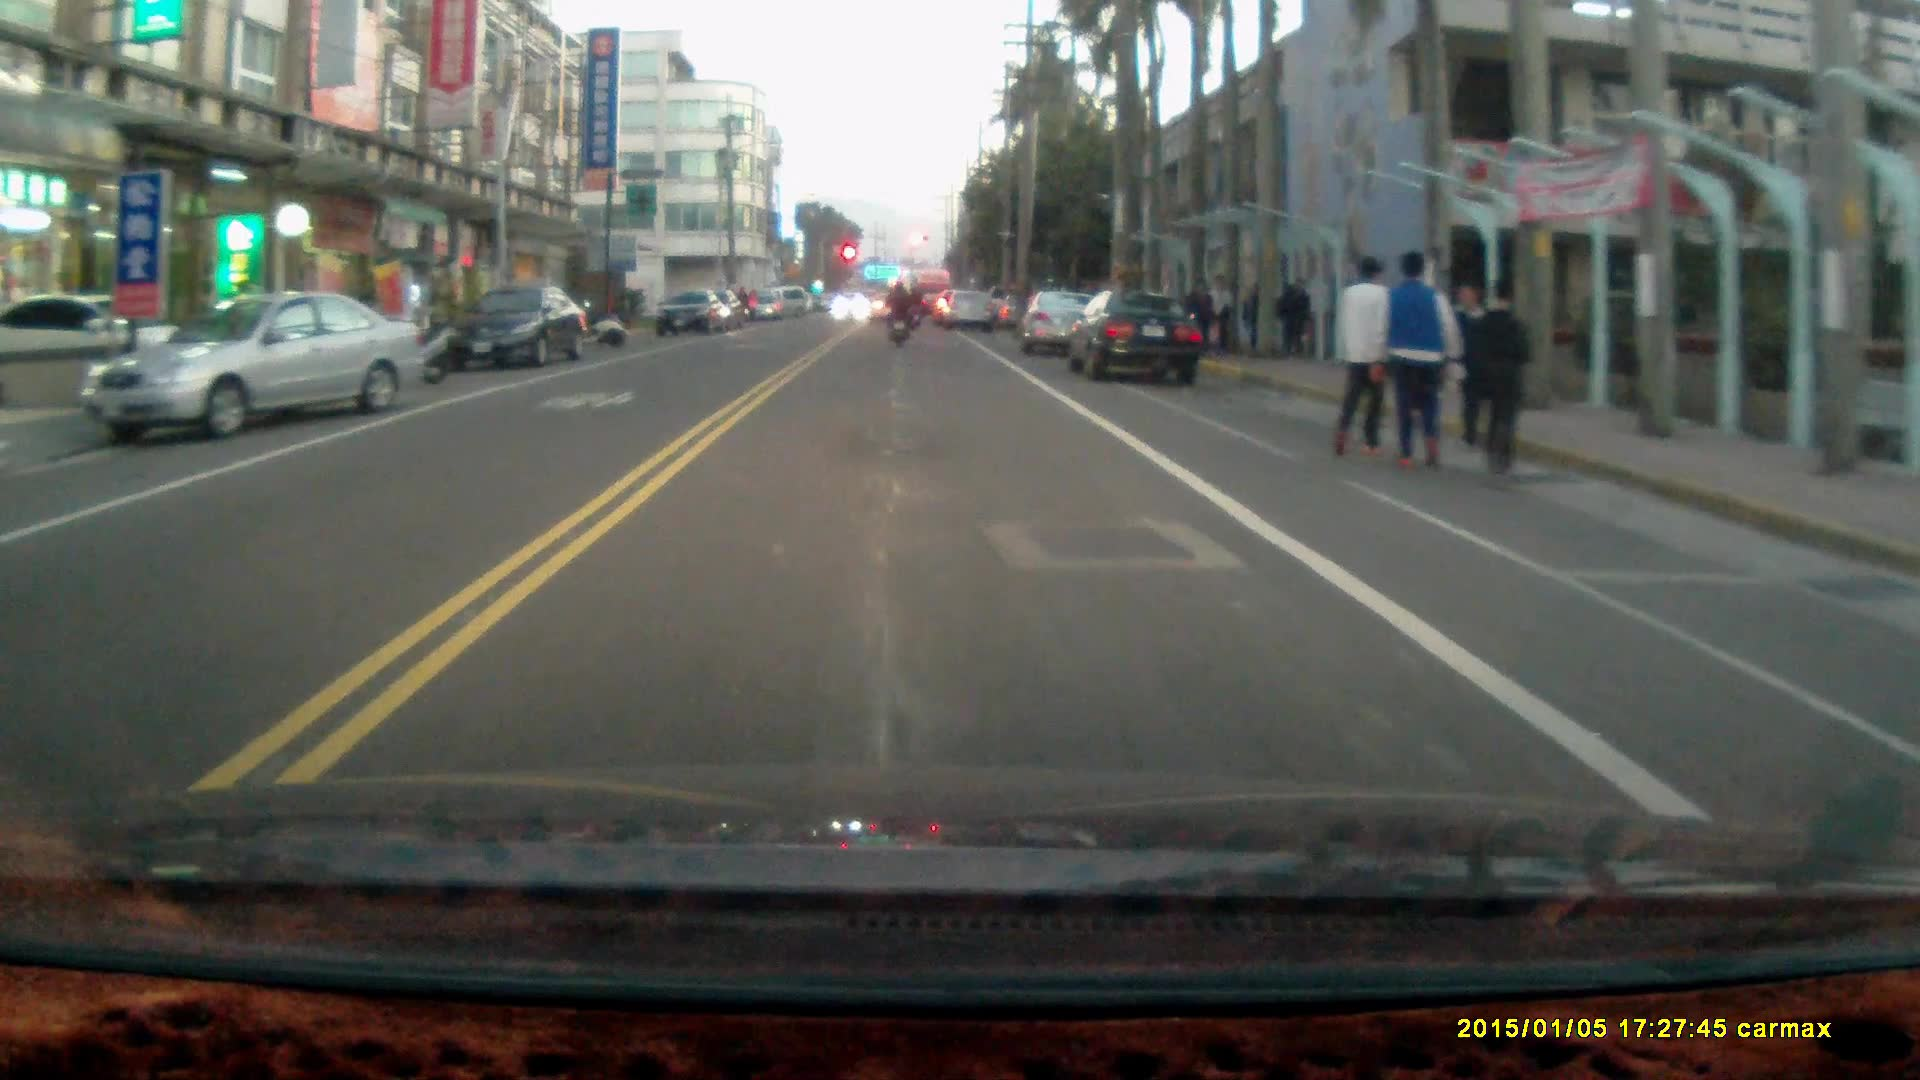pedestrian: (1368, 248, 1460, 477), (1470, 277, 1536, 481), (1327, 250, 1390, 460), (1444, 279, 1491, 455), (1278, 274, 1313, 359), (1181, 276, 1217, 358), (1205, 274, 1235, 361)
rider: (882, 280, 913, 351)
vehicle: (82, 291, 423, 441), (1069, 291, 1207, 385), (454, 283, 590, 369), (658, 287, 735, 339), (1024, 291, 1088, 354), (943, 288, 996, 333)
